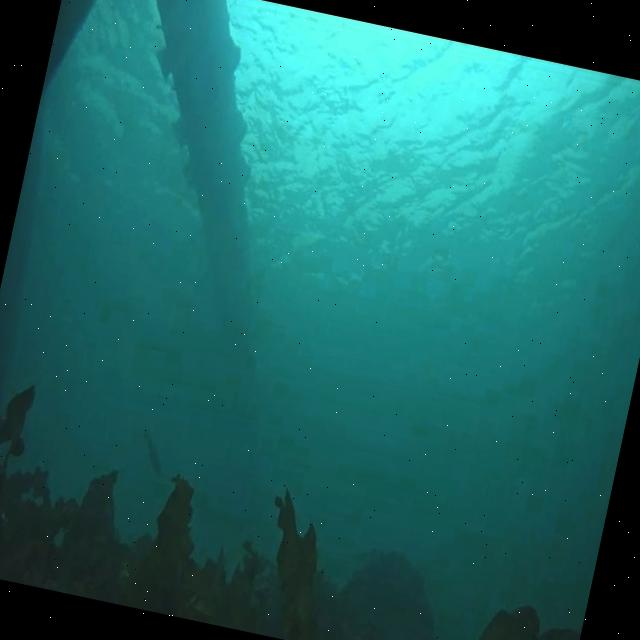fish: (134, 428, 170, 479)
